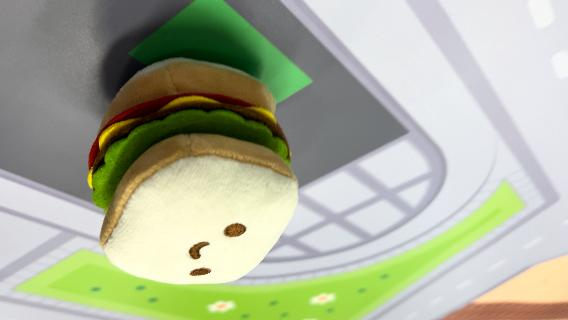sandwich: (86, 56, 302, 284)
